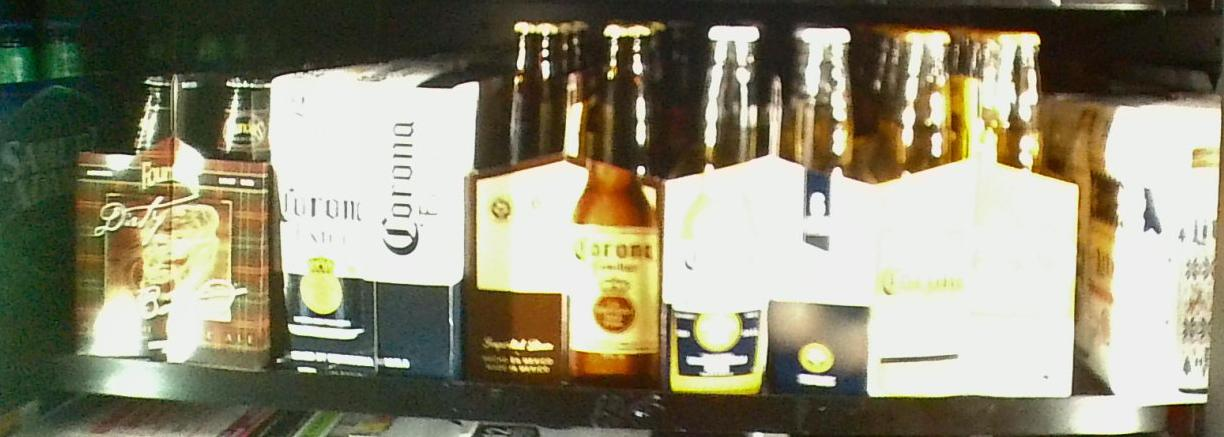bottle: (669, 17, 872, 398), (874, 15, 1073, 402), (469, 17, 664, 386), (266, 73, 463, 383), (74, 74, 269, 367), (1076, 96, 1216, 404)
